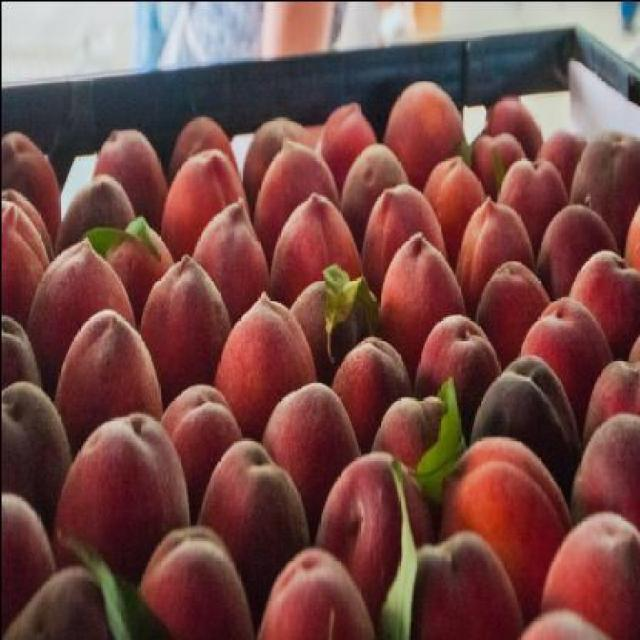Peach: (0, 75, 638, 638)
